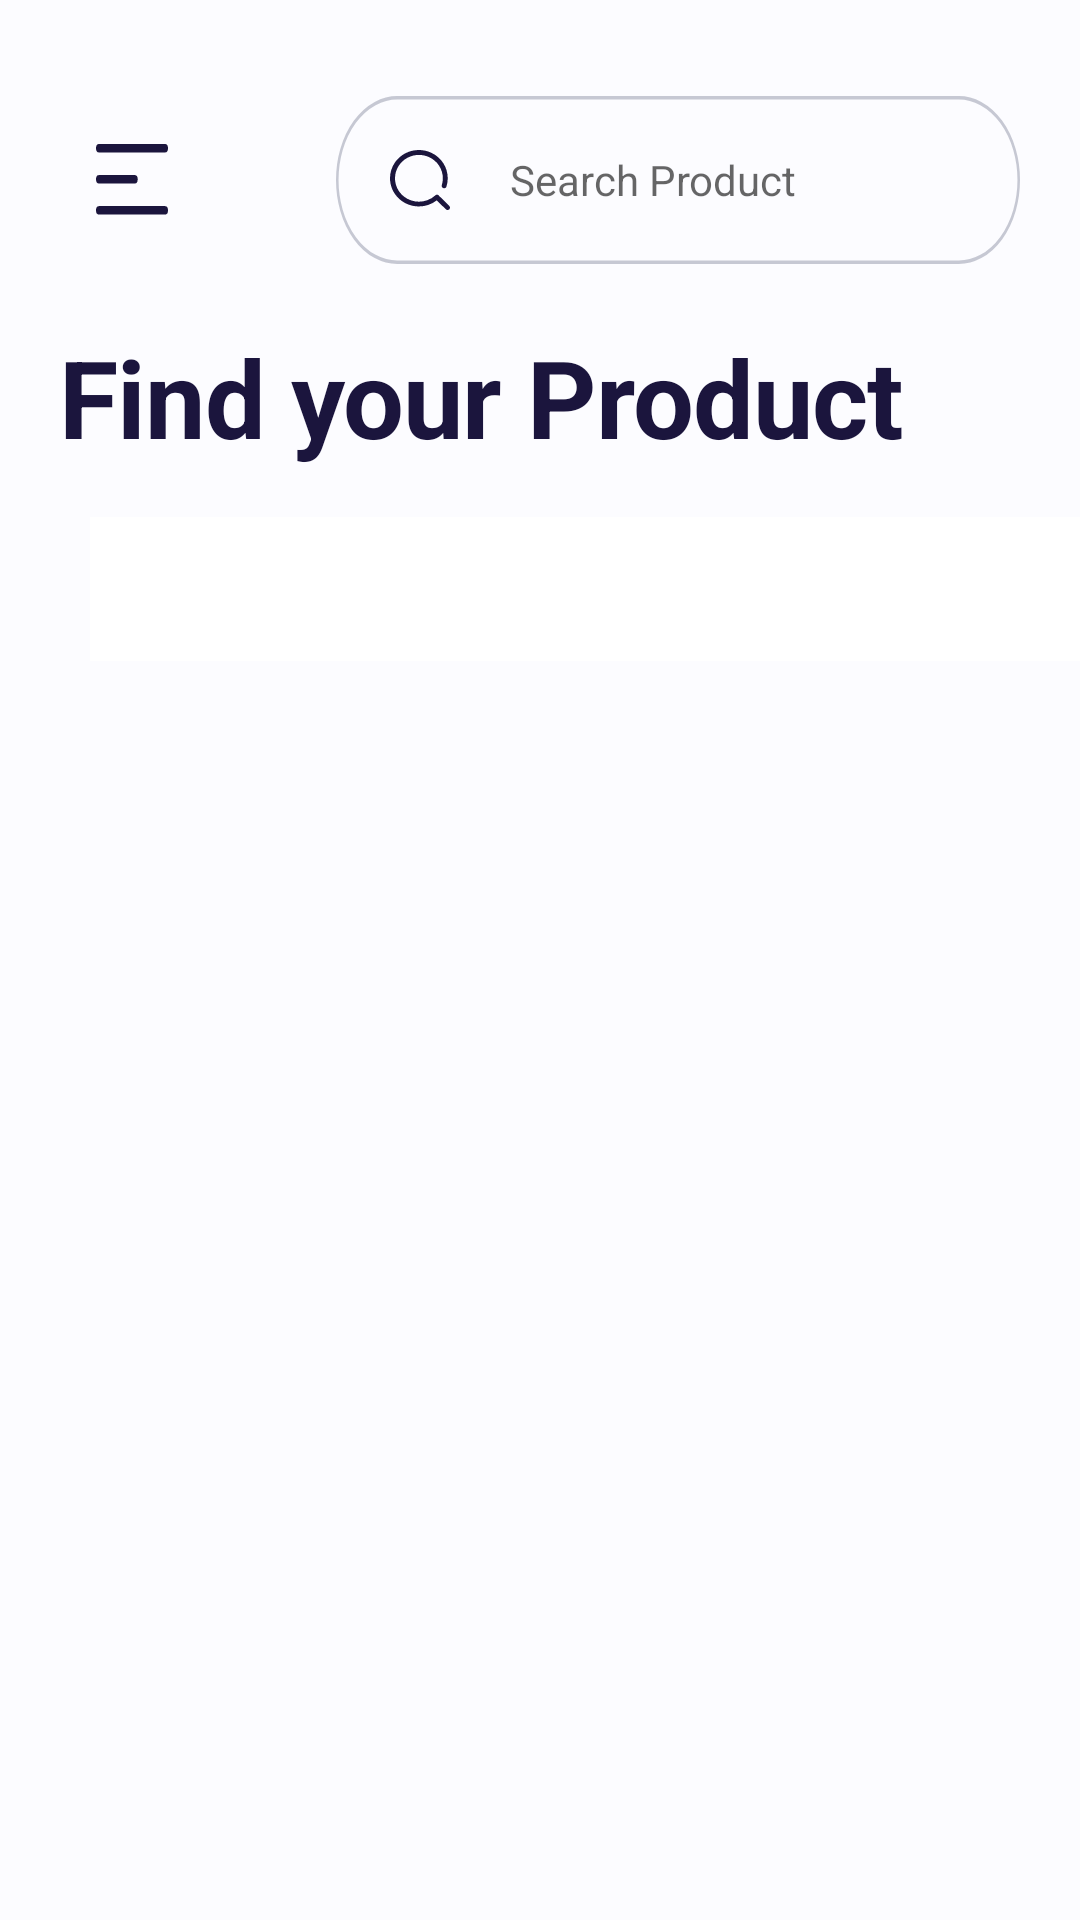

Icons on this 1080 x 1920 Android screen, each with the point to tap as (x,y):
menu: (132,179)
